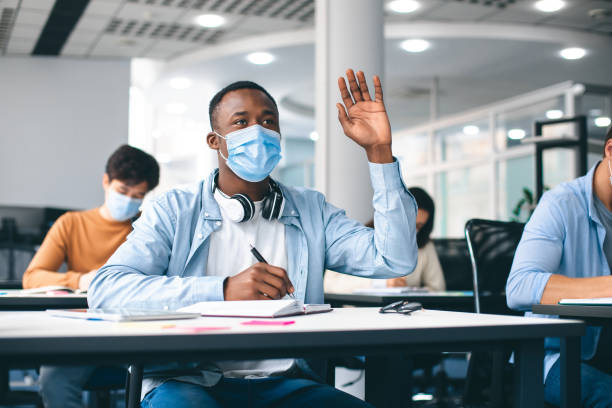with mask: (204, 89, 283, 182), (100, 162, 148, 229)
